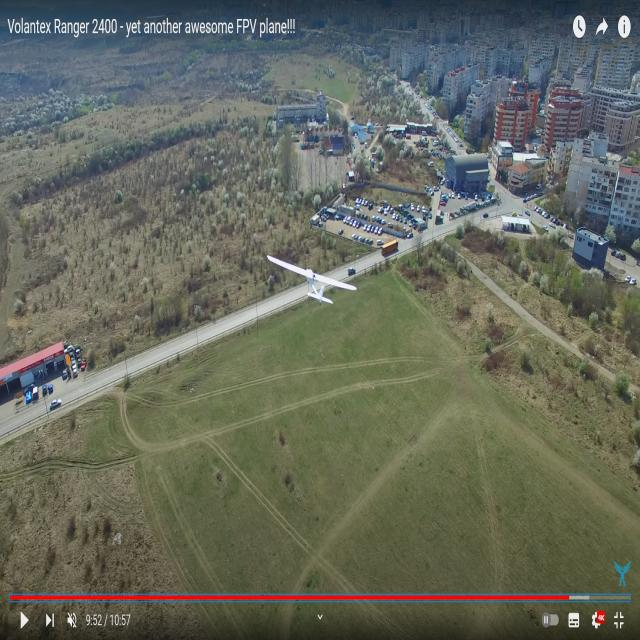iha: (302, 250, 323, 306)
